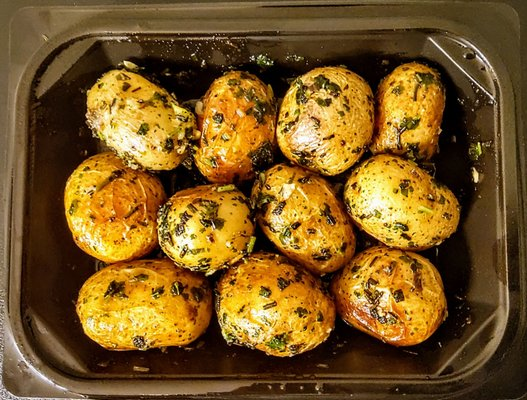pasta: (343, 154, 461, 252), (157, 183, 256, 277)
